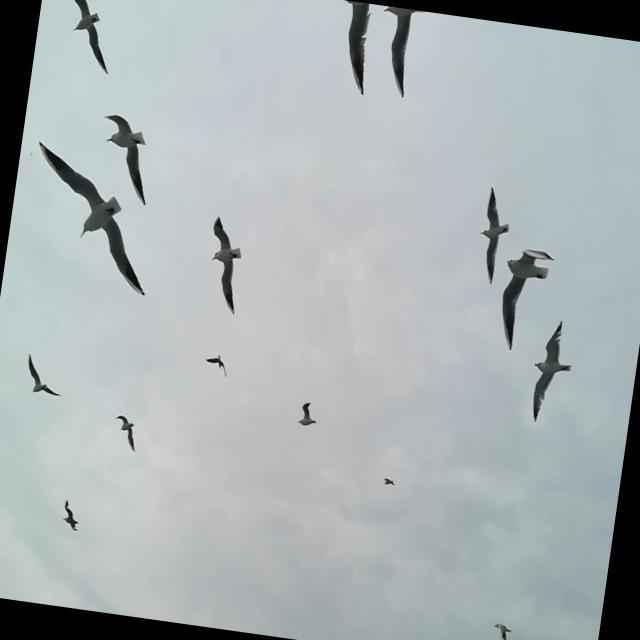bird: (14, 134, 170, 308), (490, 239, 559, 358), (92, 108, 159, 208), (524, 313, 581, 427), (196, 215, 252, 323), (369, 6, 428, 101), (53, 0, 124, 76), (472, 183, 518, 290), (17, 348, 67, 410), (111, 410, 145, 461), (294, 396, 321, 433), (58, 498, 84, 536), (201, 348, 232, 379), (490, 617, 515, 640), (383, 474, 398, 489)
